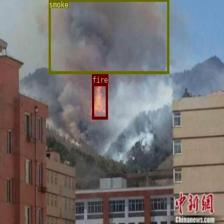fire: (92, 83, 107, 118)
smoke: (48, 0, 168, 73)
